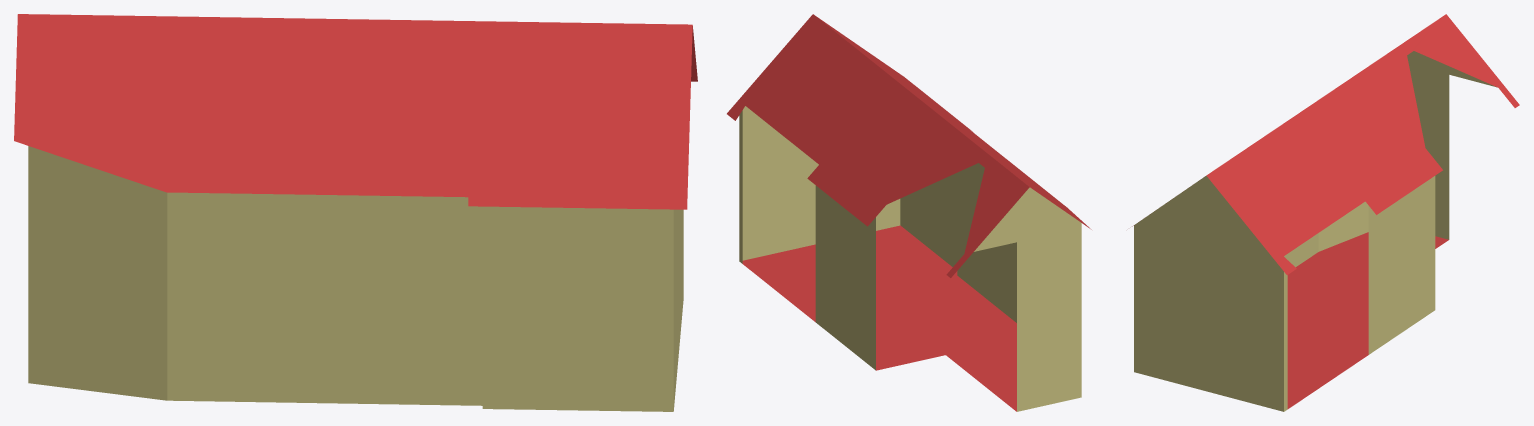
3 renders of one model, left to right at view 1: azimuth 30°, elevation 25°; view 2: azimuth 150°, elevation 25°; view 3: azimuth 270°, elevation 25°, orthographic. The views are drawn at different scales.
Size of the model in its own units: 25.21 by 21.42 by 13.06.
